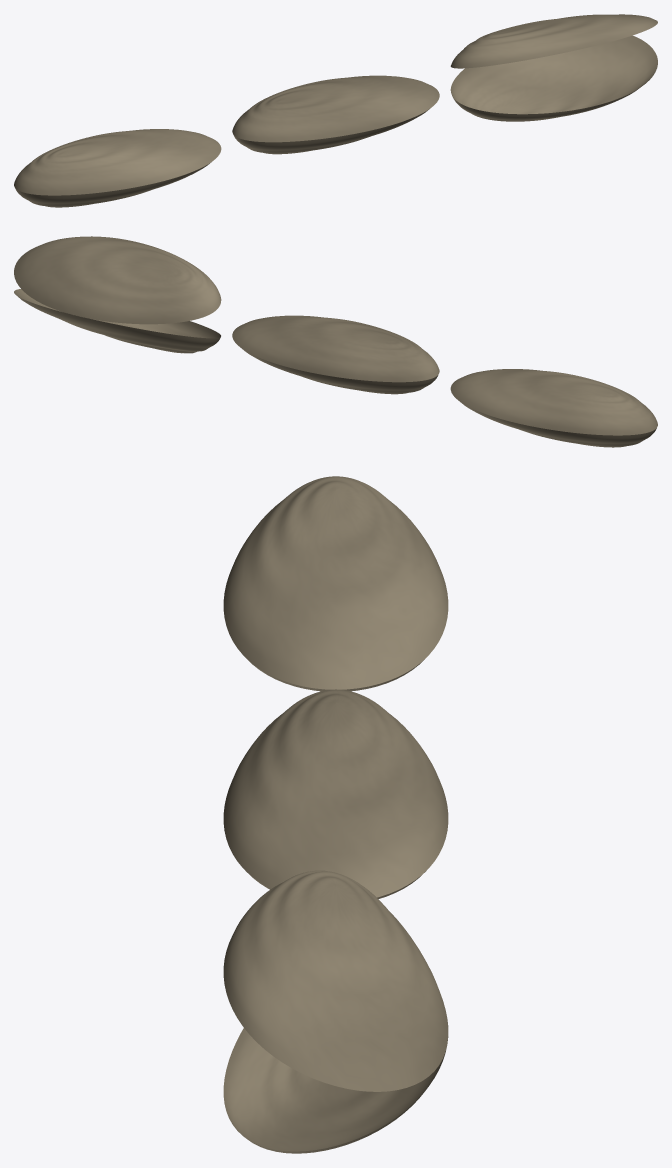
The model's file is small-bivalves.glb.
3 views of the same model, one above another, from view 1: azimuth 30°, elevation 25°; view 2: azimuth 150°, elevation 25°; view 3: azimuth 270°, elevation 25° (orthographic). The views are drawn at different scales.
Parts seen in each view (by area): view 1: small-bivalves; view 2: small-bivalves; view 3: small-bivalves.
Part boxes in pixels (<box>): small-bivalves: <box>14,14,657,207</box>; small-bivalves: <box>14,236,657,447</box>; small-bivalves: <box>223,476,448,1153</box>.
Size of the model in its own units: 0.1836 by 0.0237 by 0.0281.
